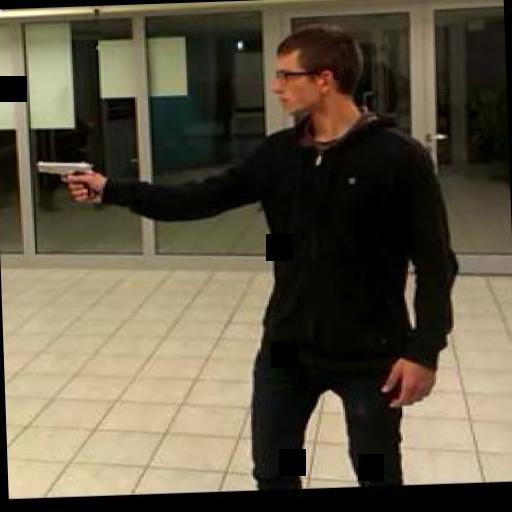Handgun: (29, 156, 96, 204)
